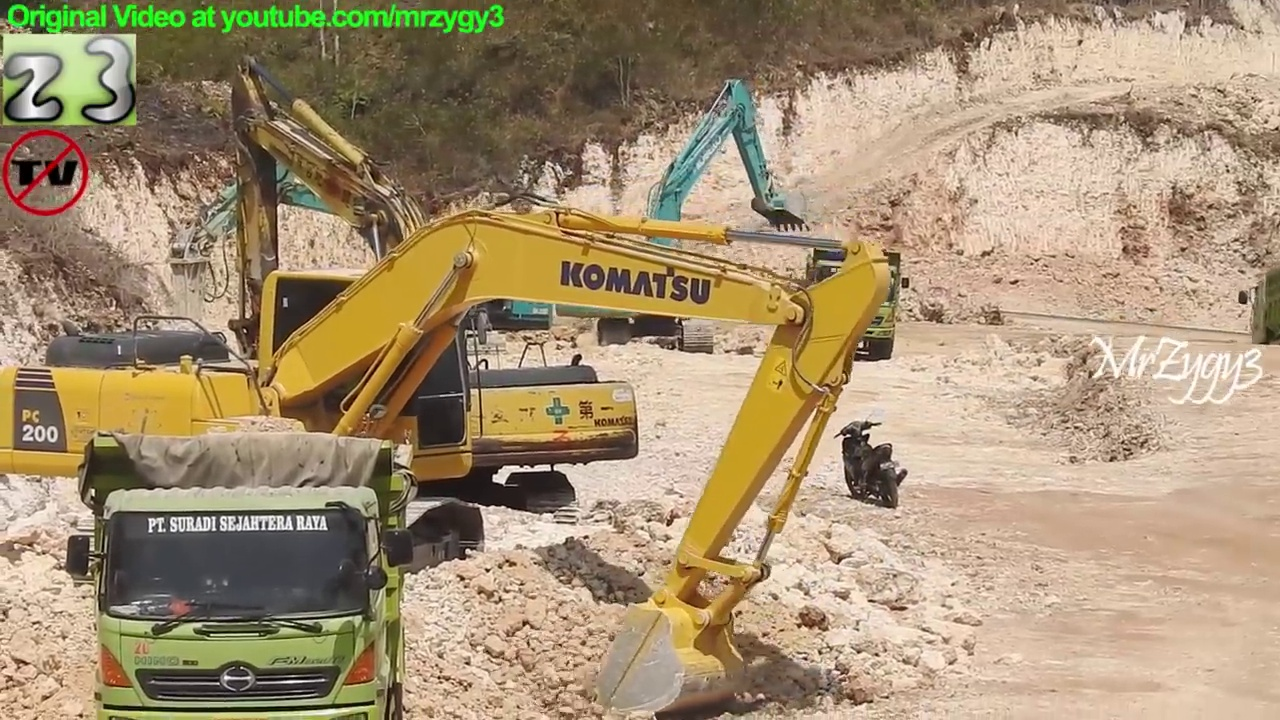excavator: (1, 188, 900, 720), (210, 50, 650, 536), (161, 152, 562, 375), (553, 69, 826, 362)
truck: (62, 424, 425, 720), (795, 236, 915, 365), (1233, 264, 1280, 357)
